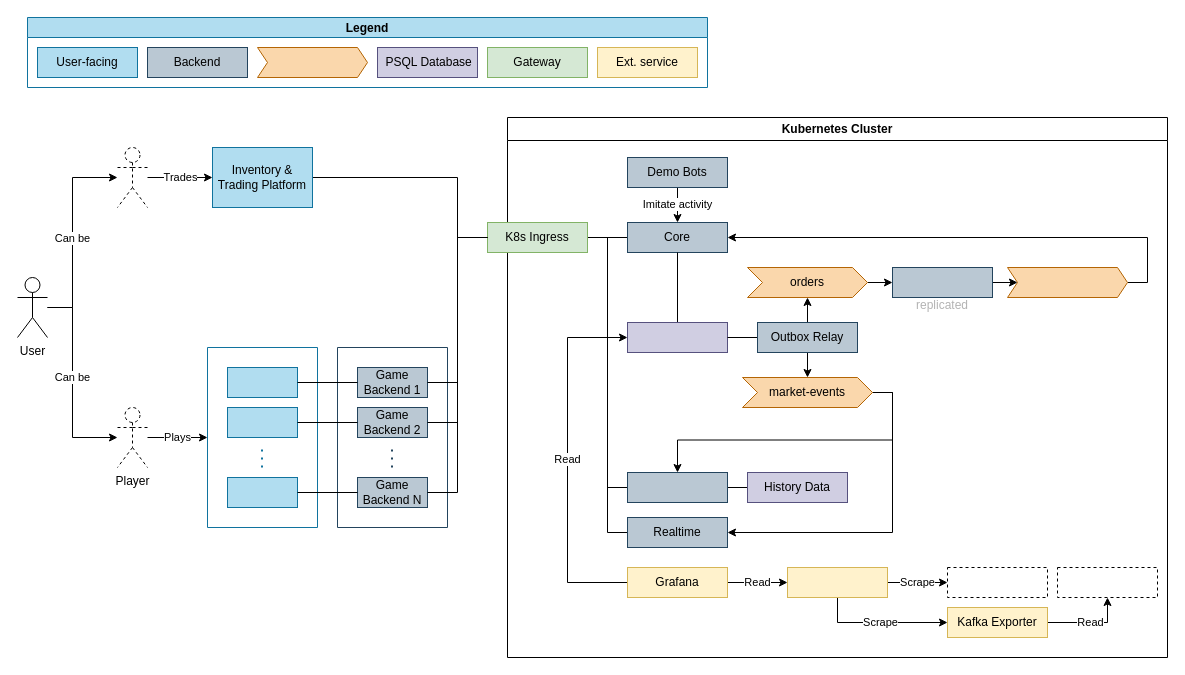
This 1185x675 diagram has some shape labels left out. The shapes that lost their labels are listed below. From the top down, each one's box as (x1, y1, x2, y2) in pixels, then its label:
(256, 46, 368, 78): Kafka Topic
(116, 146, 148, 208): Trader
(892, 266, 992, 298): In-Memory Matcher
(1006, 266, 1128, 298): match-results
(626, 322, 728, 352): Core Data
(226, 366, 298, 398): Game 1
(226, 406, 298, 438): Game 2
(226, 476, 298, 508): Game N
(626, 472, 728, 502): Market History
(786, 566, 888, 598): Prometheus
(946, 566, 1048, 598): All Backends
(1056, 566, 1158, 598): All Kafka Topics
